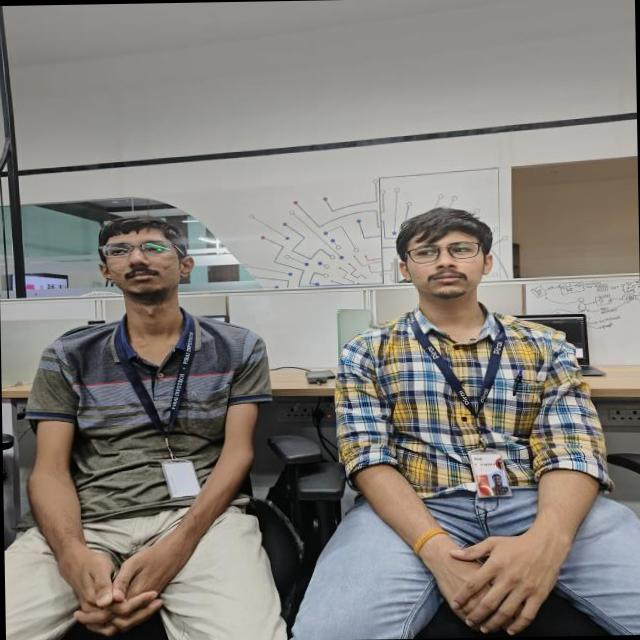id_card: (409, 305, 517, 500), (114, 304, 204, 496)
